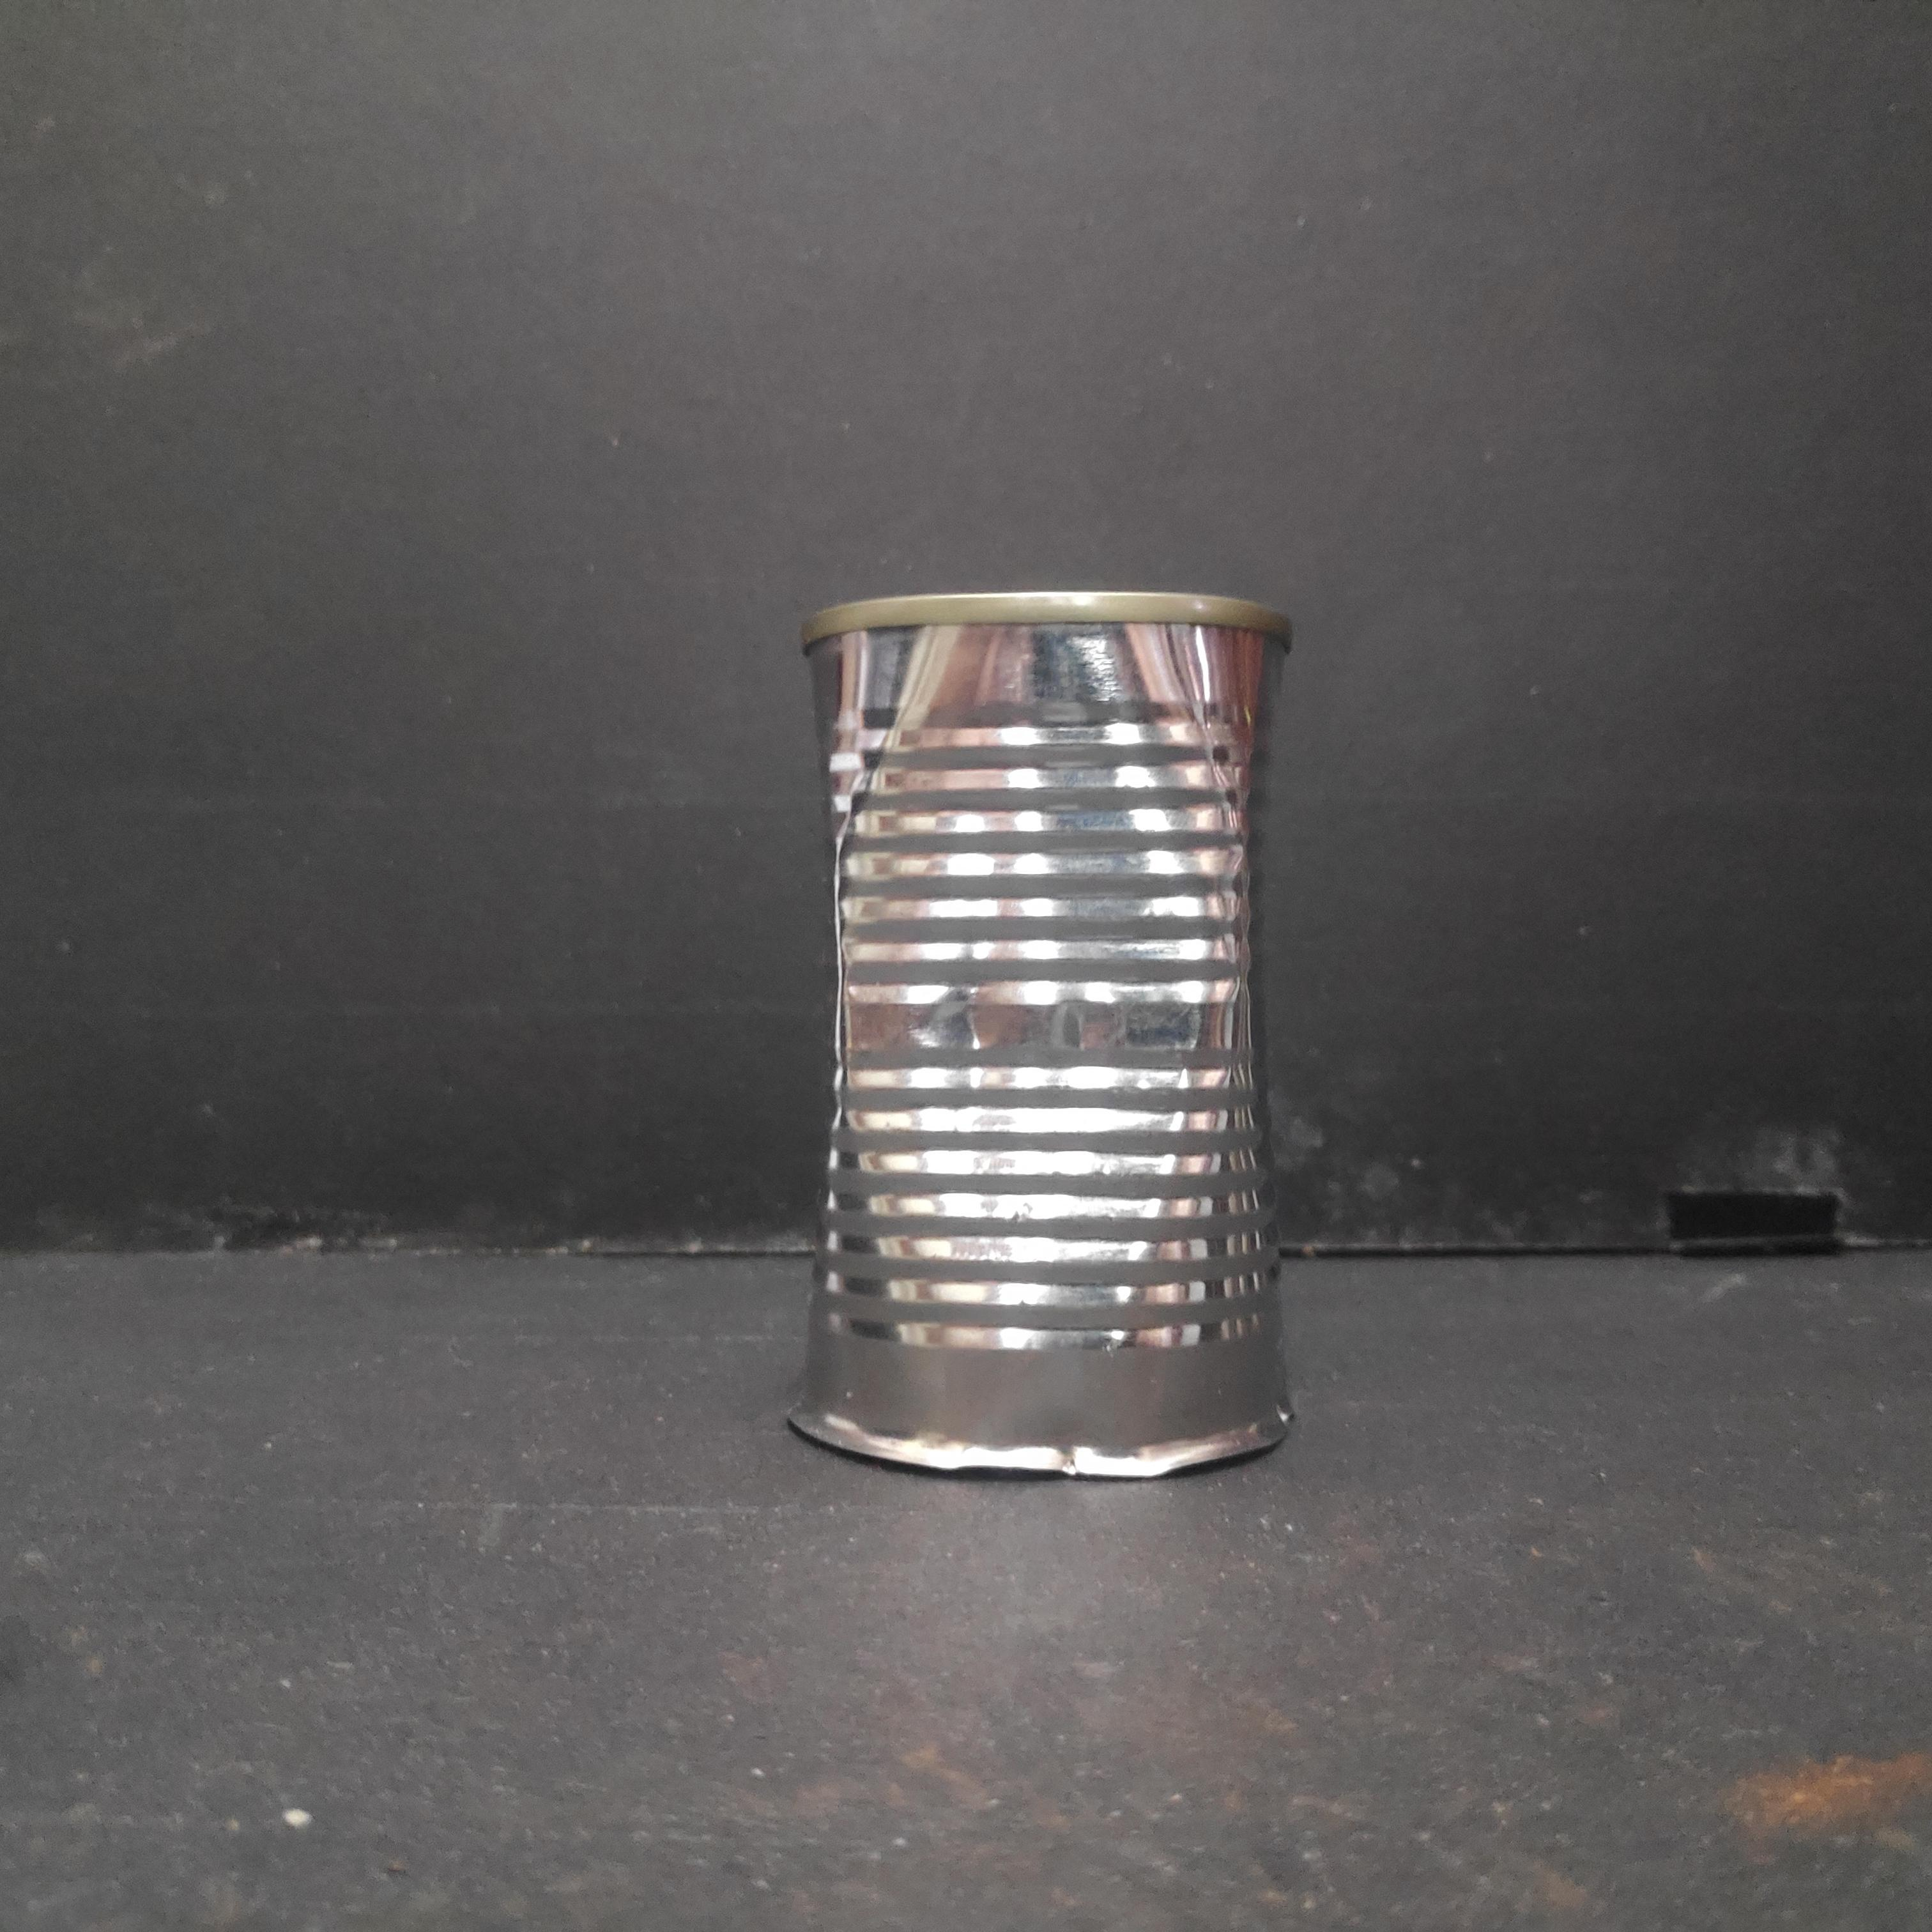Minor Defect: (787, 575, 1306, 1493)
